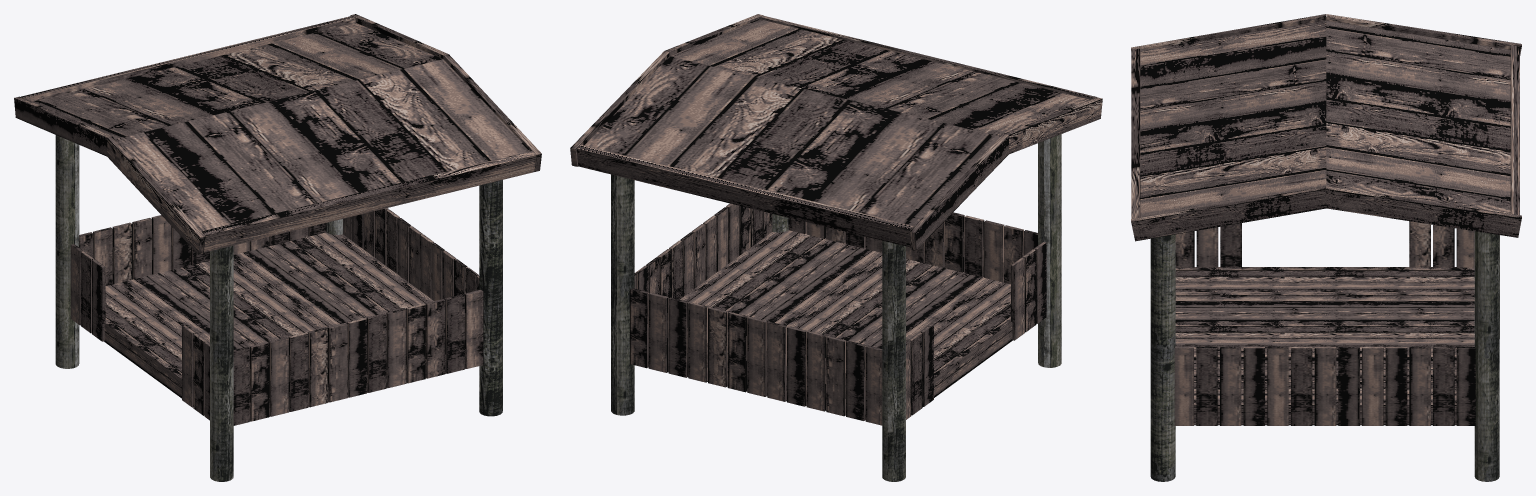
File: Patio.fbx
3 renders of one model, left to right at view 1: azimuth 30°, elevation 25°; view 2: azimuth 150°, elevation 25°; view 3: azimuth 270°, elevation 25°, orthographic. The views are drawn at different scales.
Parts seen in each view (by area): view 1: Cube.006, Cube, Cube.002, Cube.012, Cube.001, Cube.003, Cylinder.003, Cylinder.002, Cylinder.001, Cube.011, Cube.004, Cube.008 (+4 smaller); view 2: Cube.006, Cube, Cube.001, Cube.011, Cube.002, Cube.003, Cylinder.001, Cylinder, Cylinder.003, Cube.005, Cube.007, Cube.004 (+4 smaller); view 3: Cube.006, Cube, Cube.003, Cylinder, Cylinder.002, Cube.010, Cube.009, Cube.004, Cube.005, Cube.012, Cube.011, Cube.007 (+1 smaller).
Boxes of the visible parts, x1,y1,x2,y2 form: Cube.006: (32, 23, 530, 231); Cube: (104, 232, 465, 421); Cube.002: (233, 290, 483, 425); Cube.012: (201, 151, 536, 252); Cube.001: (79, 215, 326, 285); Cube.003: (343, 208, 479, 300); Cylinder.003: (210, 245, 233, 481); Cylinder.002: (479, 180, 502, 416); Cylinder.001: (55, 135, 79, 368); Cube.011: (21, 16, 355, 101); Cube.004: (70, 244, 105, 341); Cube.008: (107, 136, 205, 254); Cube.006: (584, 19, 1089, 225); Cube: (668, 230, 1012, 410); Cube.001: (630, 288, 882, 425); Cube.011: (576, 144, 914, 247); Cube.002: (788, 212, 1037, 284); Cube.003: (634, 203, 772, 299); Cylinder.001: (882, 240, 905, 481); Cylinder: (611, 174, 634, 415); Cylinder.003: (1038, 134, 1061, 367); Cube.005: (1011, 242, 1046, 340); Cube.007: (909, 134, 1008, 250); Cube.004: (906, 324, 933, 419); Cube.006: (1140, 20, 1510, 217); Cube: (1175, 267, 1474, 425); Cube.003: (1174, 346, 1475, 425); Cylinder: (1474, 231, 1499, 481); Cylinder.002: (1150, 234, 1175, 481); Cube.010: (1131, 186, 1326, 241); Cube.009: (1326, 186, 1521, 237); Cube.004: (1409, 221, 1474, 267); Cube.005: (1175, 223, 1241, 267); Cube.012: (1131, 48, 1140, 218); Cube.011: (1510, 45, 1519, 215); Cube.007: (1326, 14, 1521, 55).
Size of the model in its own units: 13.06 by 10.65 by 12.33.
Materials: 2 (2 with a texture image).
